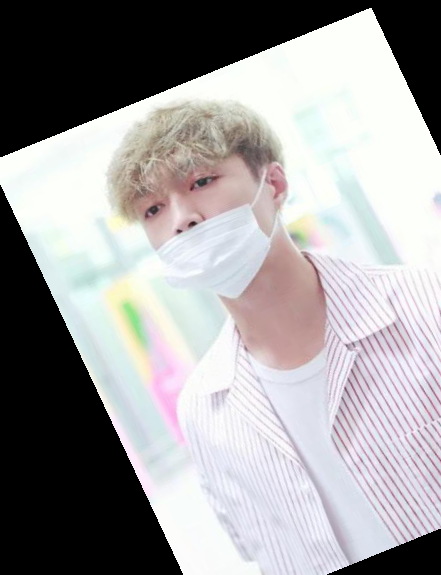mask_weared_incorrect: (99, 96, 311, 312)
